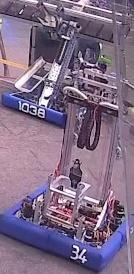blue_number: (70, 242, 89, 268)
